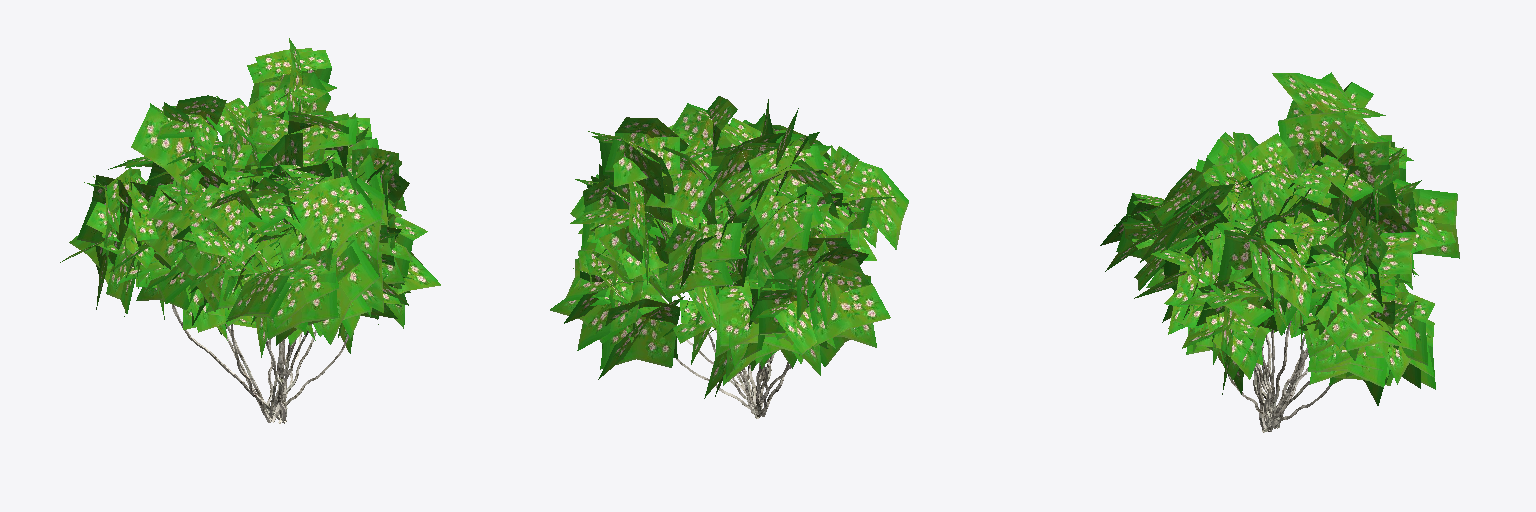
3 views of the same model, side by side, from view 1: azimuth 30°, elevation 25°; view 2: azimuth 150°, elevation 25°; view 3: azimuth 270°, elevation 25° (orthographic).
Parts seen in each view (by area): view 1: Bush_1_1; view 2: Bush_1_1; view 3: Bush_1_1.
Part boxes in pixels (x1,y1,x2,y2): Bush_1_1: (60, 38, 440, 423); Bush_1_1: (550, 96, 908, 418); Bush_1_1: (1100, 72, 1459, 432).
Bounding box in the file's own units: 0.9242 × 0.9191 × 0.9003.
1 materials, 1 textured.